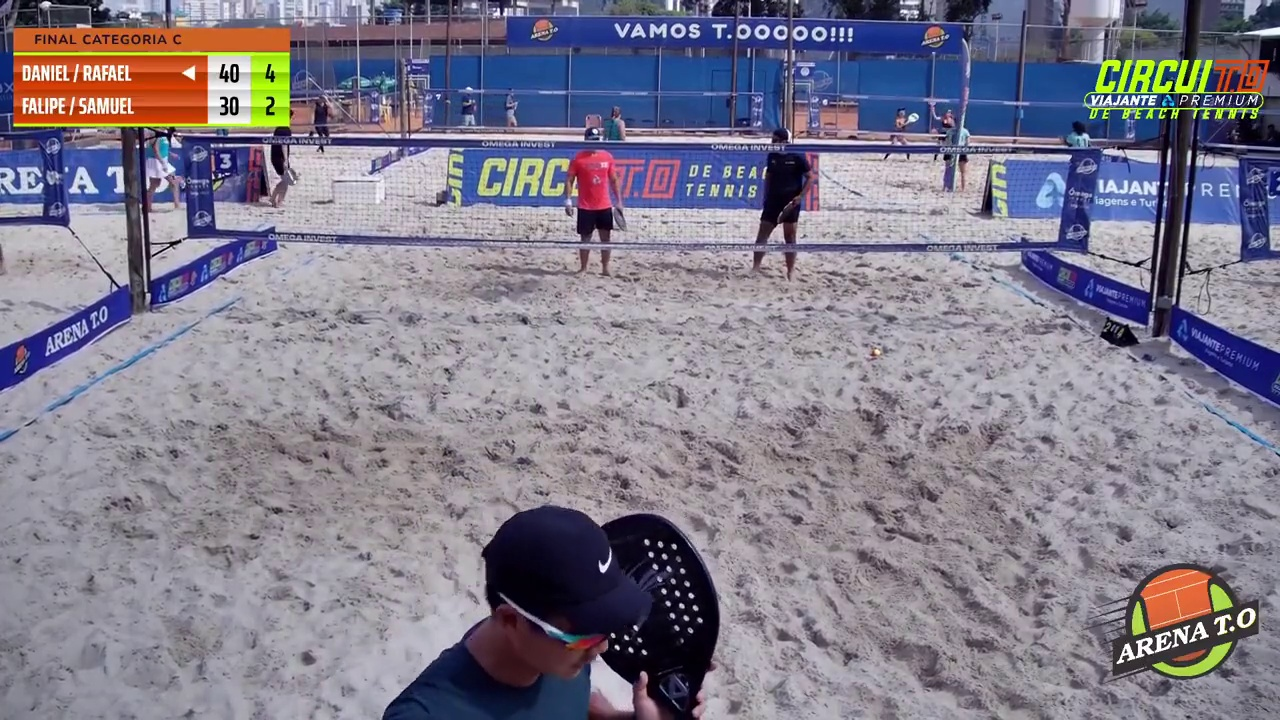court_line: (641, 0, 808, 344)
